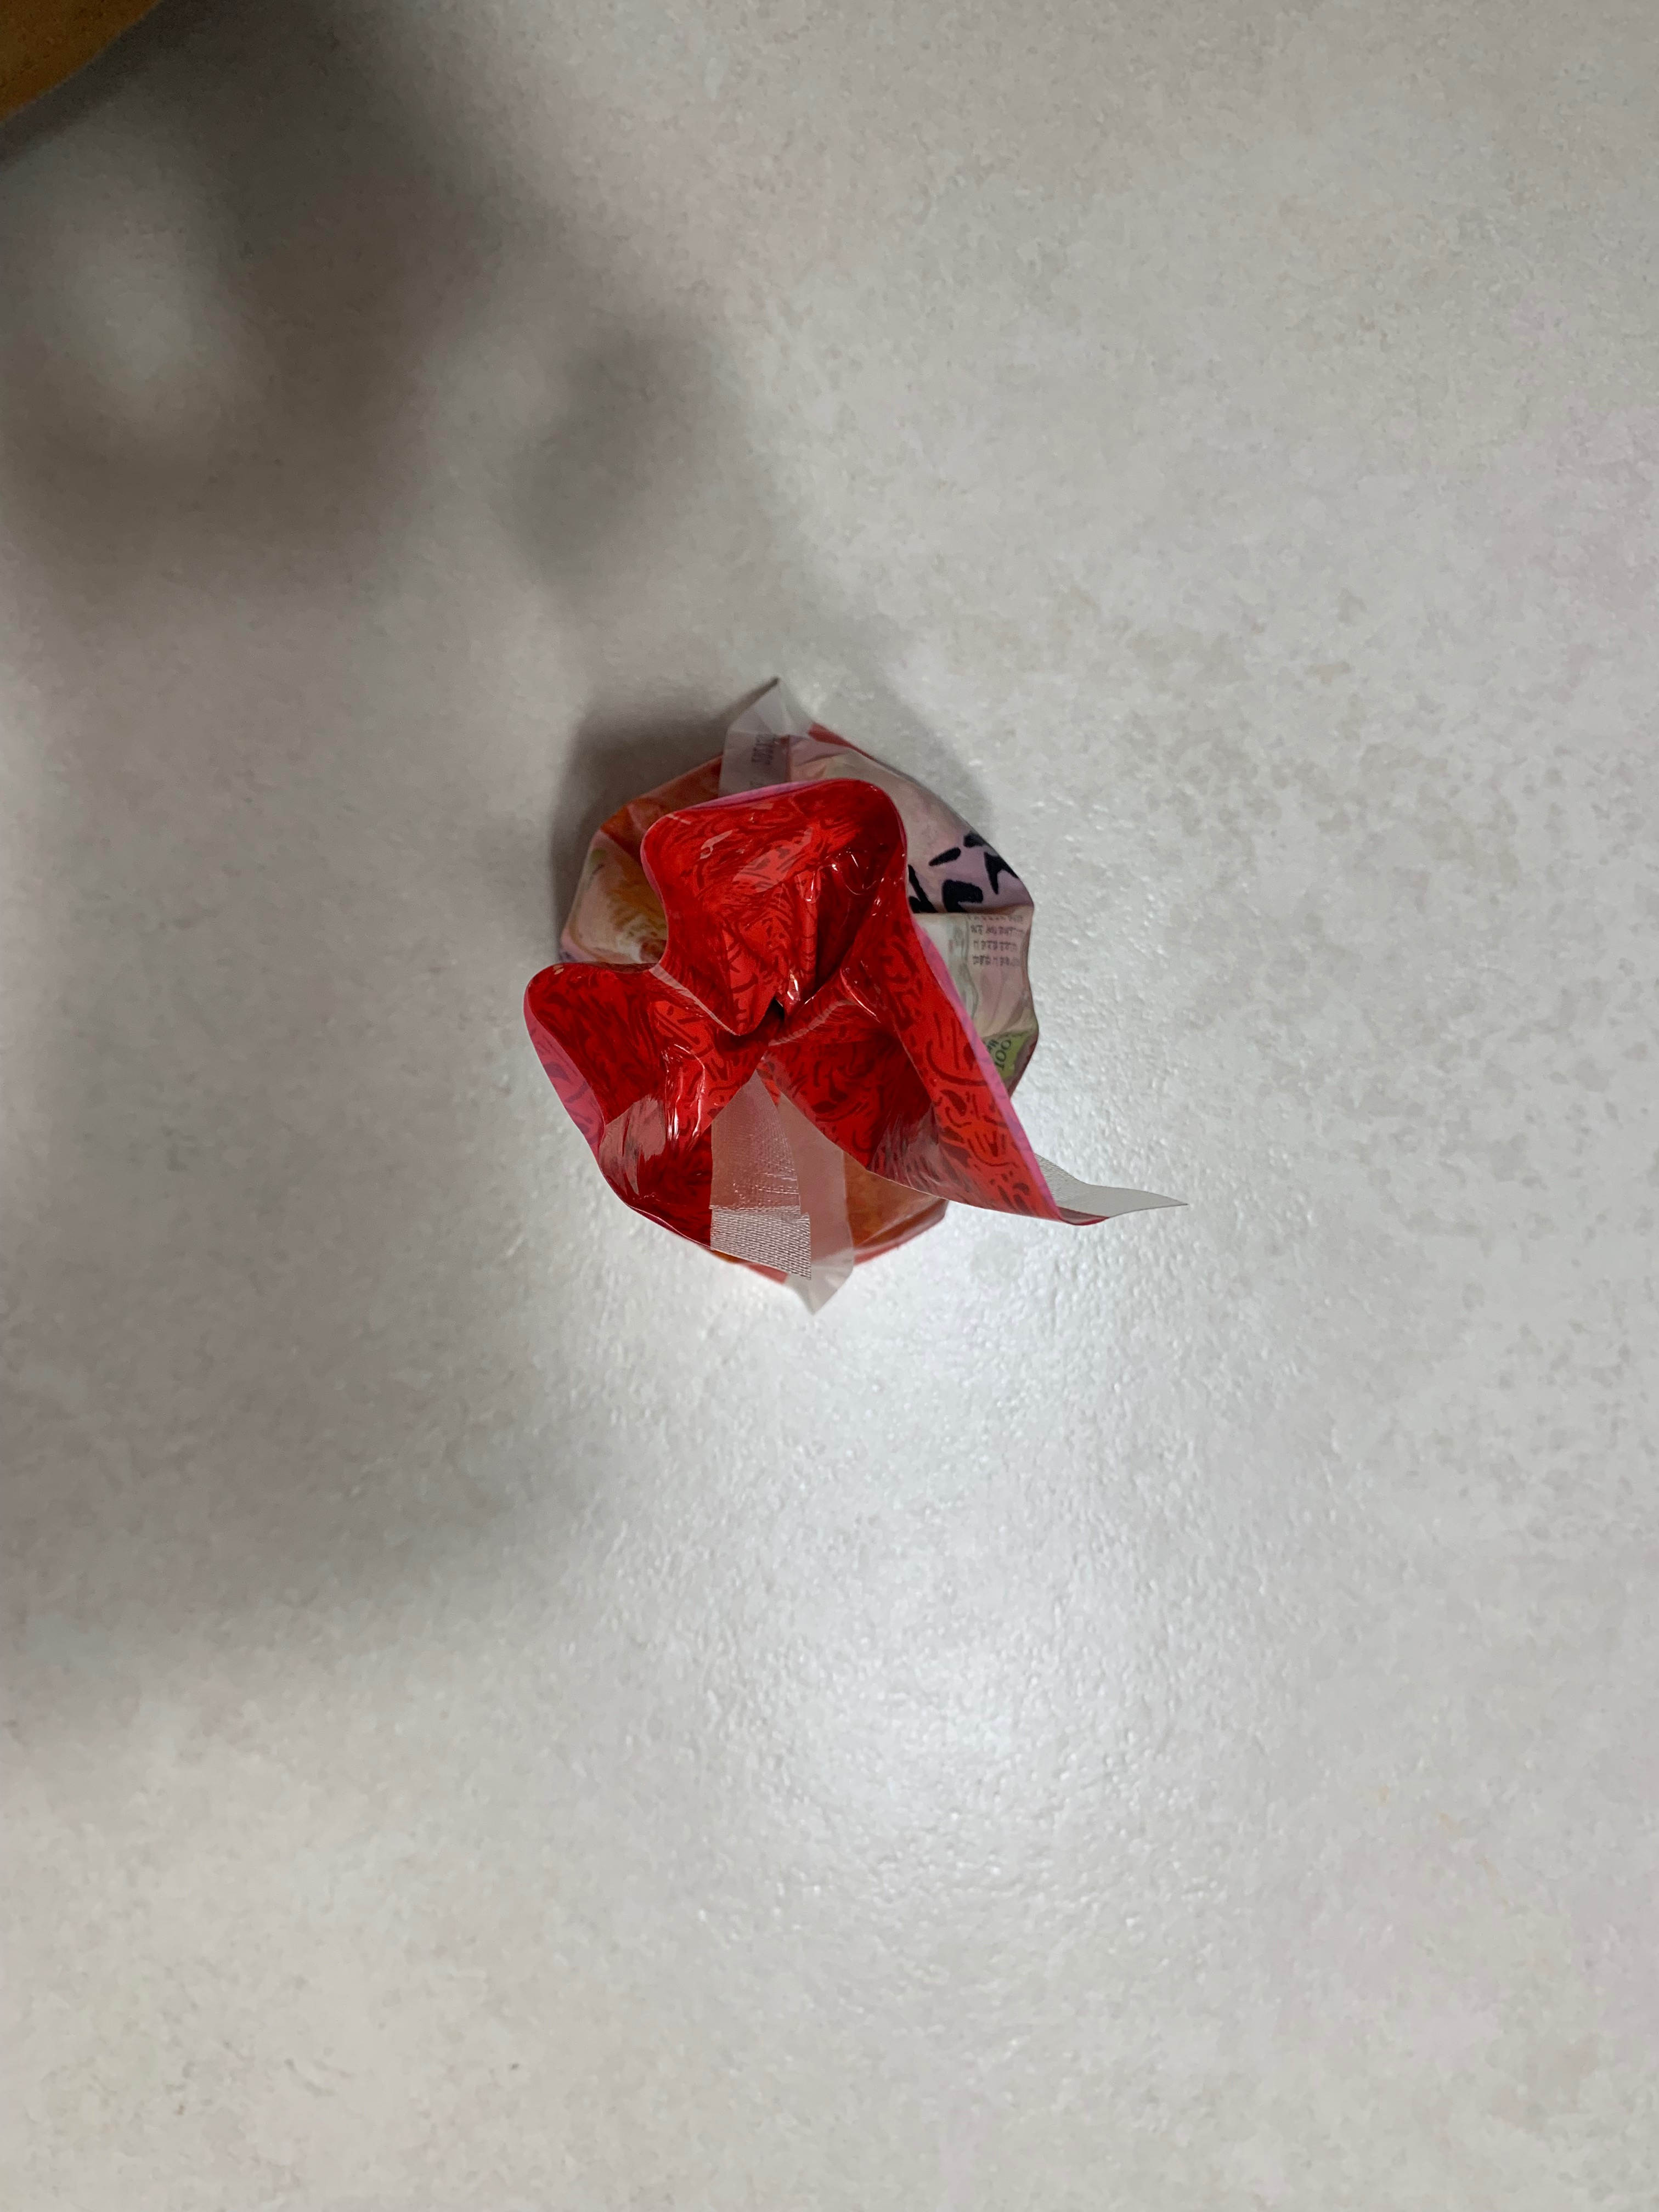kimchi: (525, 716, 1110, 1303)
